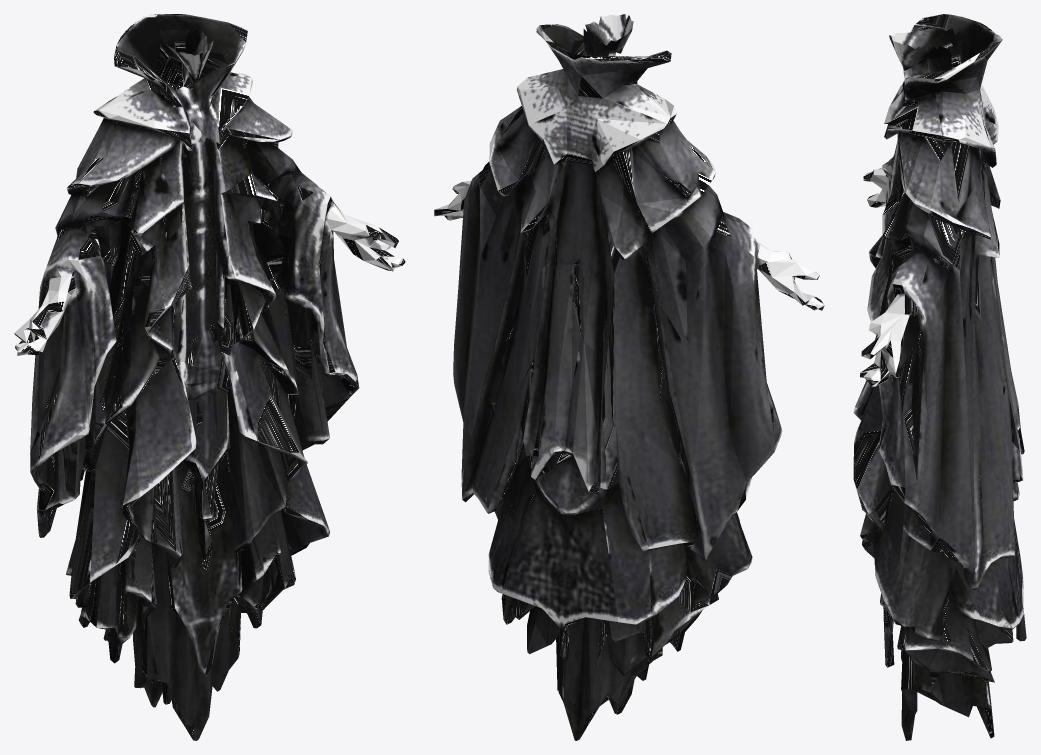
The model's file is watcher_body.glb.
3 views of the same model, side by side, from view 1: azimuth 30°, elevation 25°; view 2: azimuth 150°, elevation 25°; view 3: azimuth 270°, elevation 25° (orthographic).
Parts seen in each view (by area): view 1: watcher_body; view 2: watcher_body; view 3: watcher_body.
Part boxes in pixels (x1,y1,x2,y2): watcher_body: (14, 14, 405, 740); watcher_body: (434, 14, 824, 740); watcher_body: (853, 14, 1026, 740).
Size of the model in its own units: 2.1 by 3.62 by 0.8053.
Materials: 1 (1 with a texture image).
